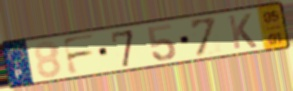5: (145, 22, 177, 62)
7: (189, 15, 219, 58), (110, 28, 136, 68)
8: (34, 39, 64, 80)
F: (60, 33, 97, 77)
K: (226, 12, 259, 51)
